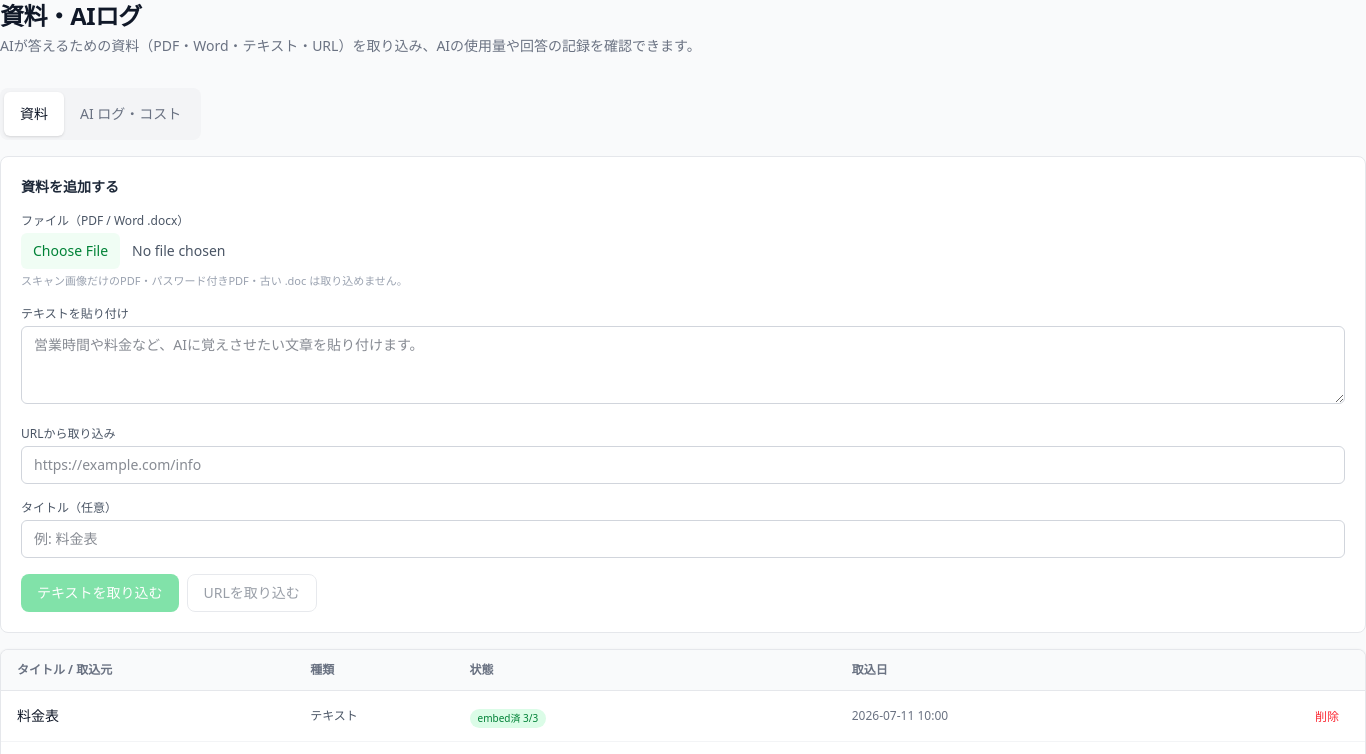
it: /knowledge page — AI ログ・コストタブ › タブ切替でコスト api を呼び headroom を表示する
This screenshot has width=1366, height=754.
Check: the text "料金表" is shown, box [17,706,59,724]
What coordinates should you click on to do the following:
click the button "AI ログ・コスト"
I would click on:
 (131, 114)
Its box is [64,92,197,136].
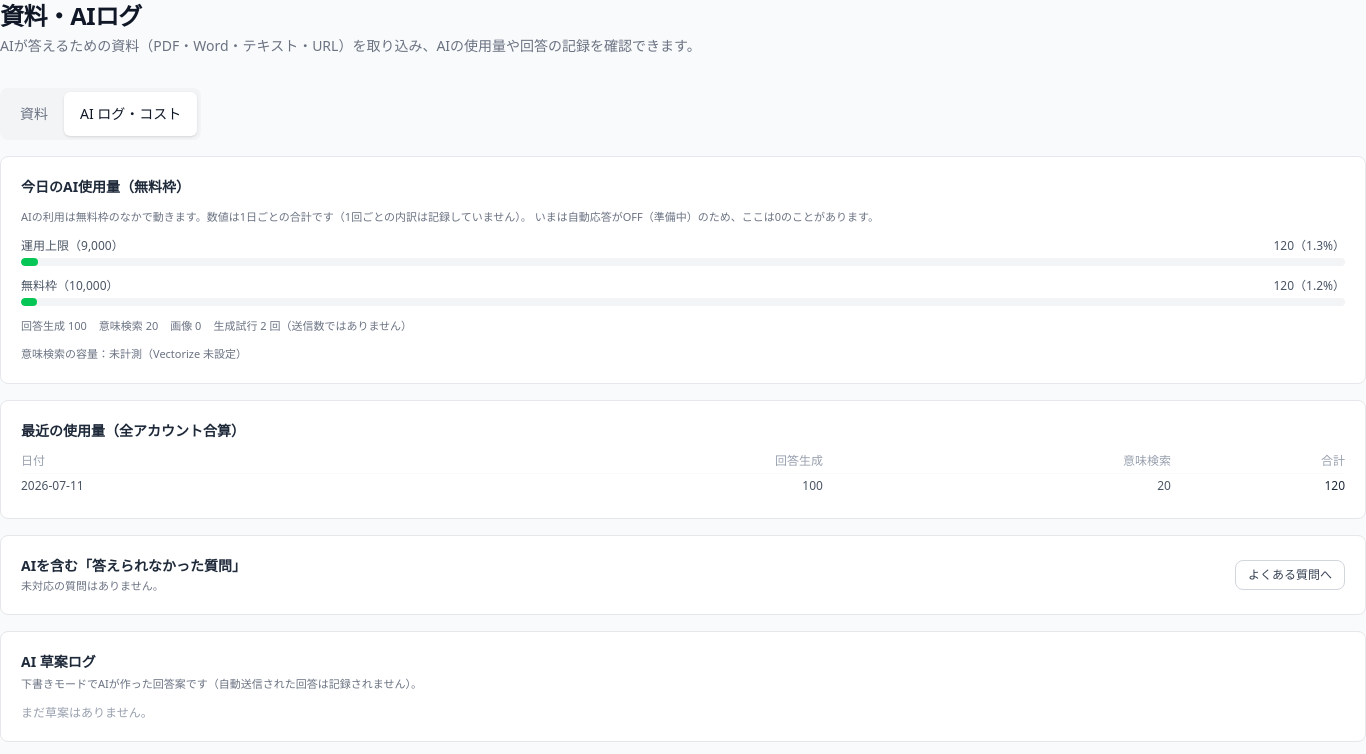
Check: the text "運用上限（9,000）" is shown, box [21,238,124,254]
Check: the heading "今日のAI使用量（無料枠）" is shown, box [21,177,190,196]
